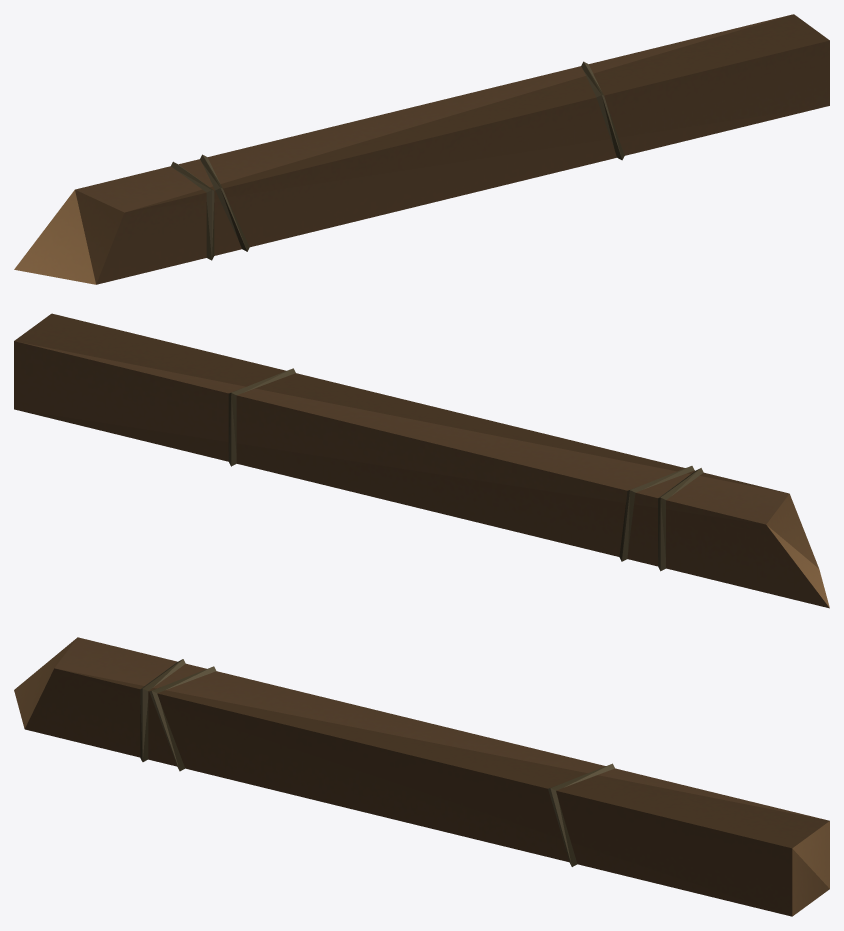
File: Wood_7B_Lod0.fbx
The picture shows the model from 3 angles, top to bottom: view 1: azimuth 30°, elevation 25°; view 2: azimuth 150°, elevation 25°; view 3: azimuth 330°, elevation 25°; orthographic projection. The views are drawn at different scales.
Parts seen in each view (by area): view 1: polySurface1097; view 2: polySurface1097; view 3: polySurface1097.
Part boxes in pixels (x1,y1,x2,y2): polySurface1097: [14, 14, 829, 284]; polySurface1097: [14, 313, 829, 608]; polySurface1097: [14, 637, 829, 916].
Size of the model in its own units: 500 by 43.25 by 43.25.
Materials: 1 (1 with a texture image).
